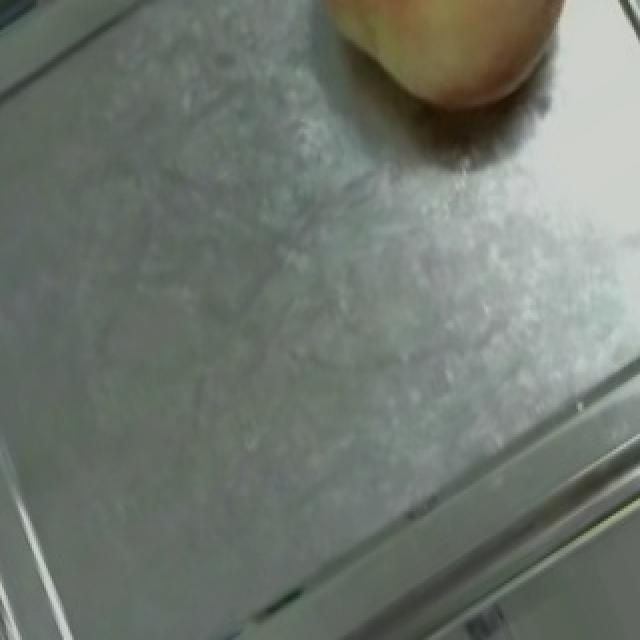Fruit: (282, 0, 600, 151)
